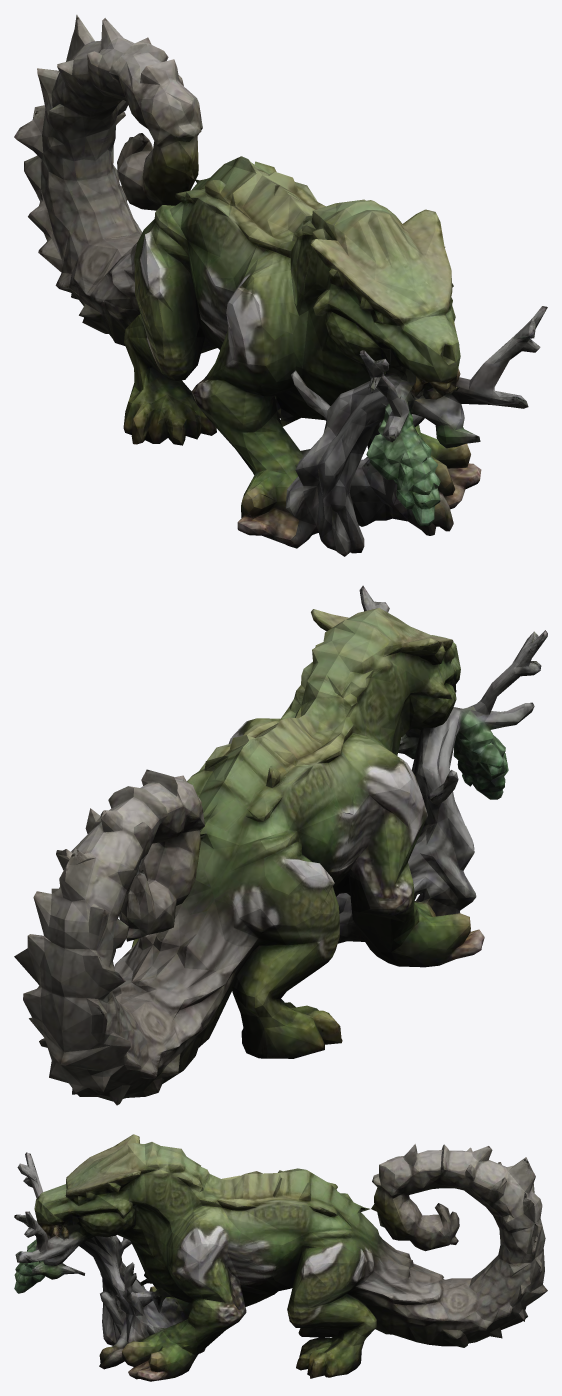
The model's file is rotfang__blightdrake.glb.
The picture shows the model from 3 angles, top to bottom: view 1: azimuth 30°, elevation 25°; view 2: azimuth 150°, elevation 25°; view 3: azimuth 270°, elevation 25°; orthographic projection. The views are drawn at different scales.
Visible parts, largest first — view 1: world; view 2: world; view 3: world.
Part boxes in pixels (bbox=[...]): world: bbox=[14, 14, 547, 556]; world: bbox=[14, 585, 547, 1105]; world: bbox=[14, 1134, 547, 1381].
Bounding box in the file's own units: 0.3473 × 0.4437 × 1.
1 material, 1 textured.
